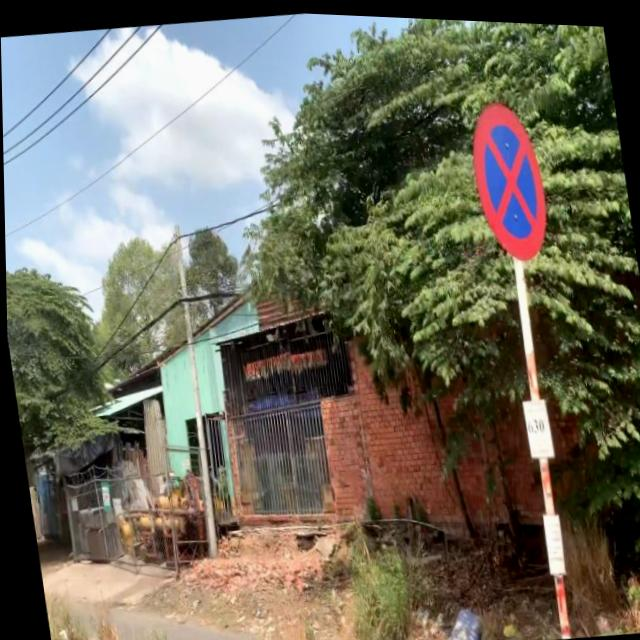Cam dung xe va do xe: (460, 89, 557, 266)
